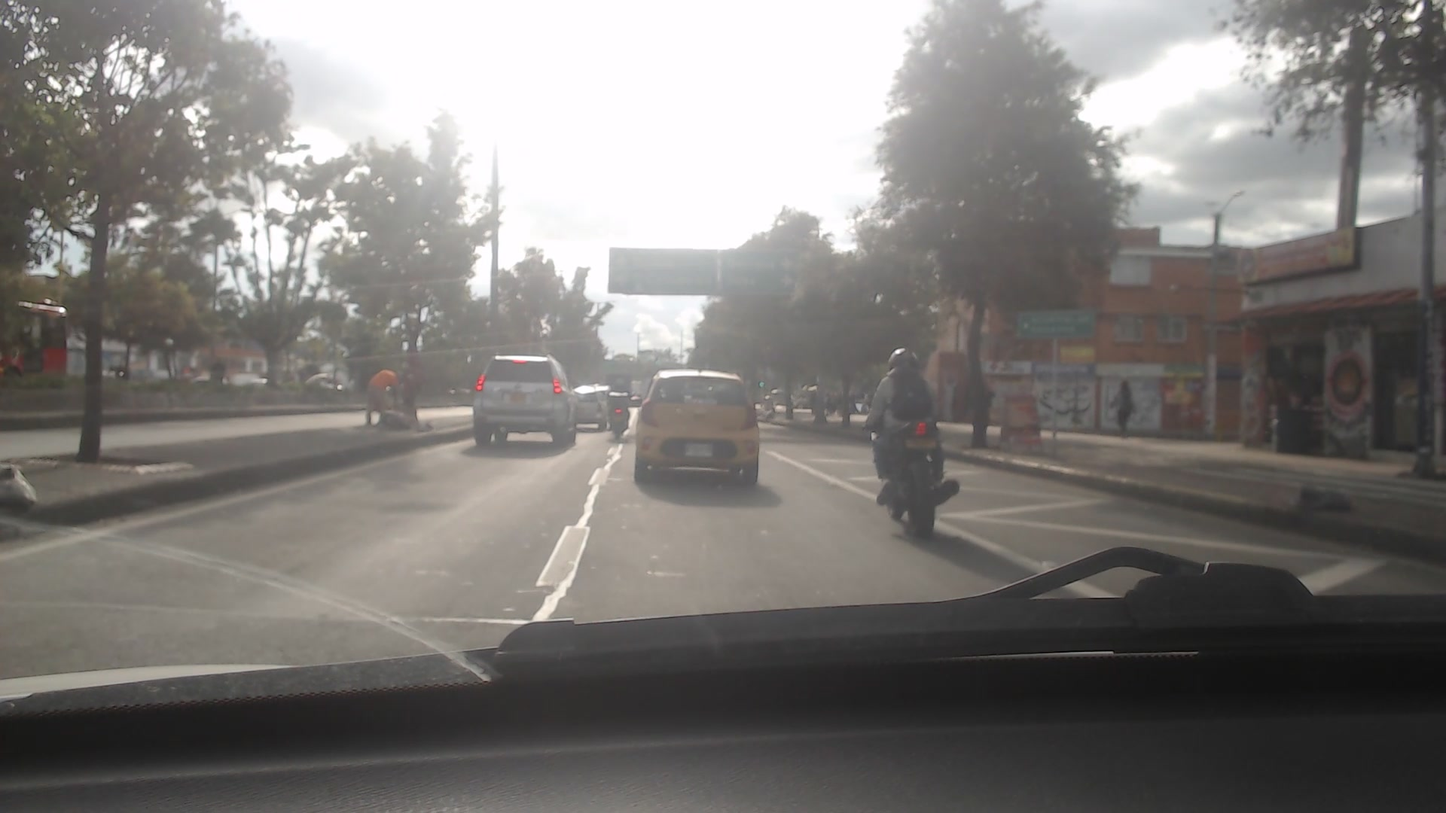car: (636, 360, 764, 485), (474, 350, 575, 447)
motorcycle: (863, 405, 960, 537), (606, 398, 633, 443)
person: (878, 338, 936, 502), (355, 357, 400, 429), (1115, 377, 1134, 433), (609, 371, 628, 421)
